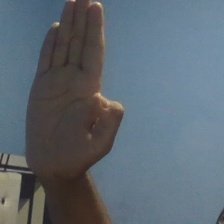B: (22, 1, 126, 182)
